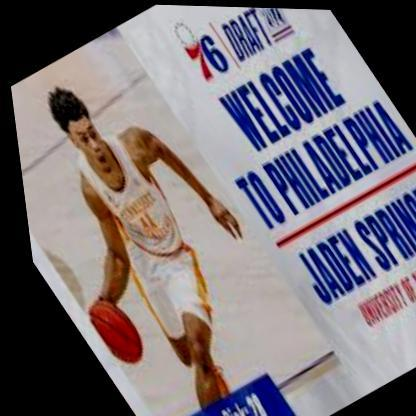basketball: (73, 292, 147, 371)
